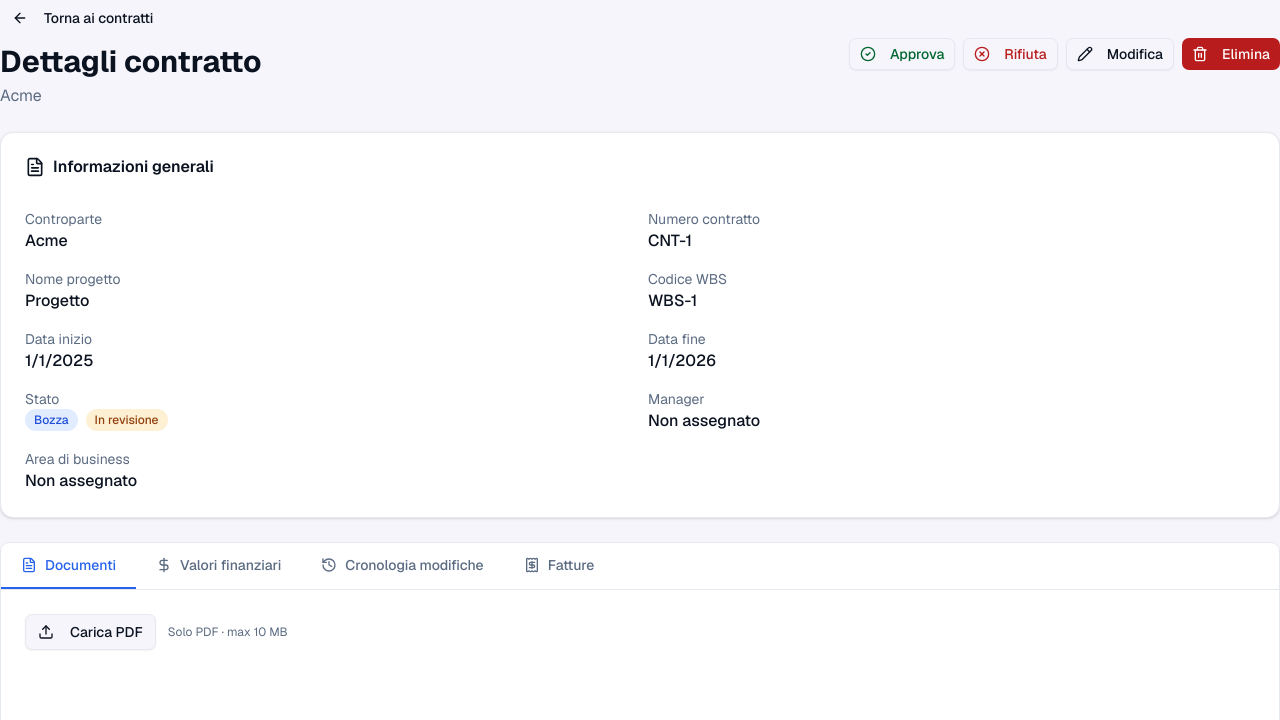
Test: ContractDetailPage — approval workflow › disables the reject confirmation button until a comment is entered
Click the button "Rifiuta".
click(1011, 54)  # box [963,38,1058,70]
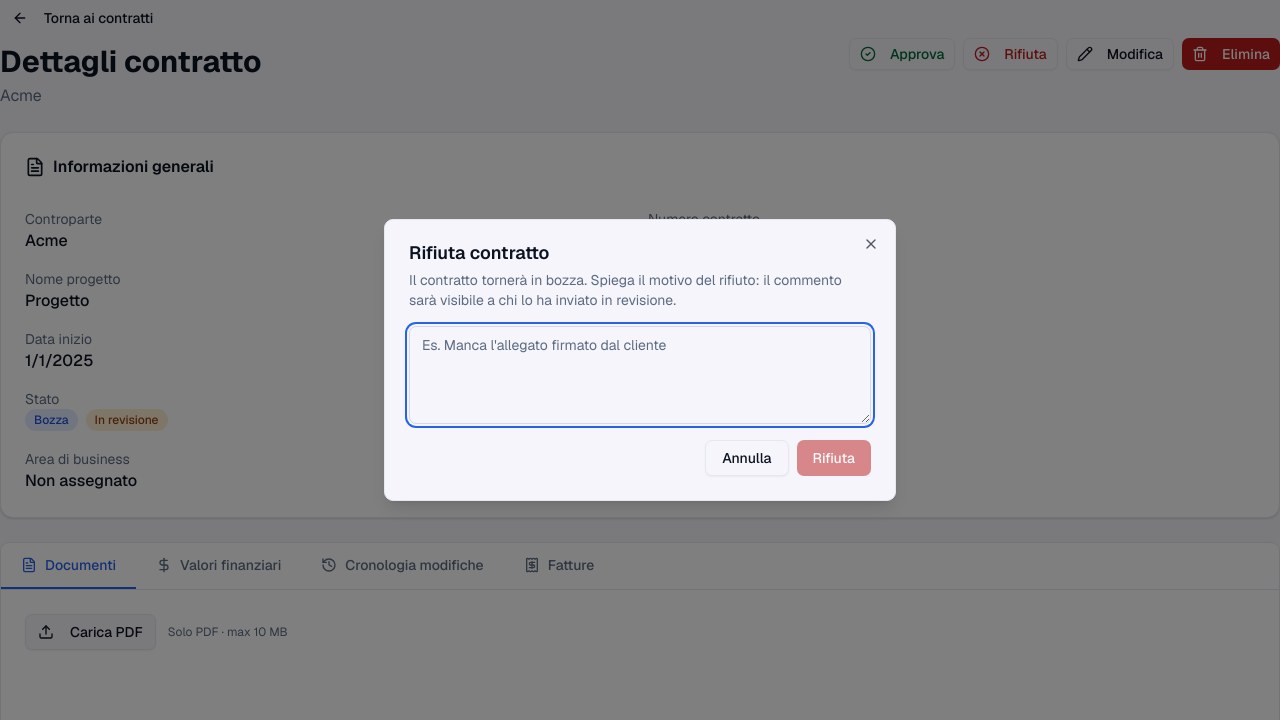
Now the button "Rifiuta" is disabled, box [796,440,871,476]
